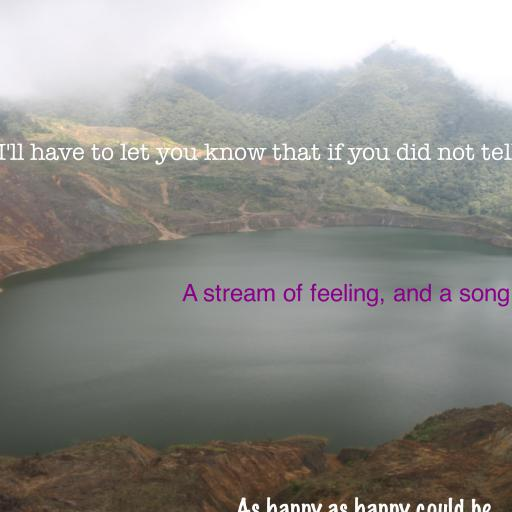American Typewriter: (0, 143, 512, 165)
Marker Felt: (236, 497, 492, 512)
SignPainter: (182, 283, 510, 307)
